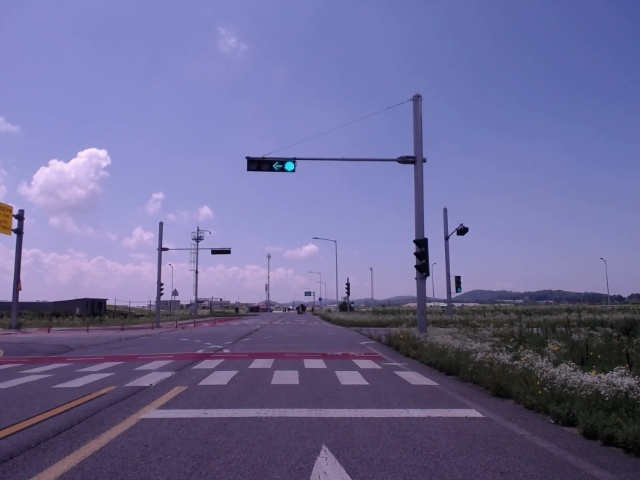all_green_4: (243, 154, 297, 174)
